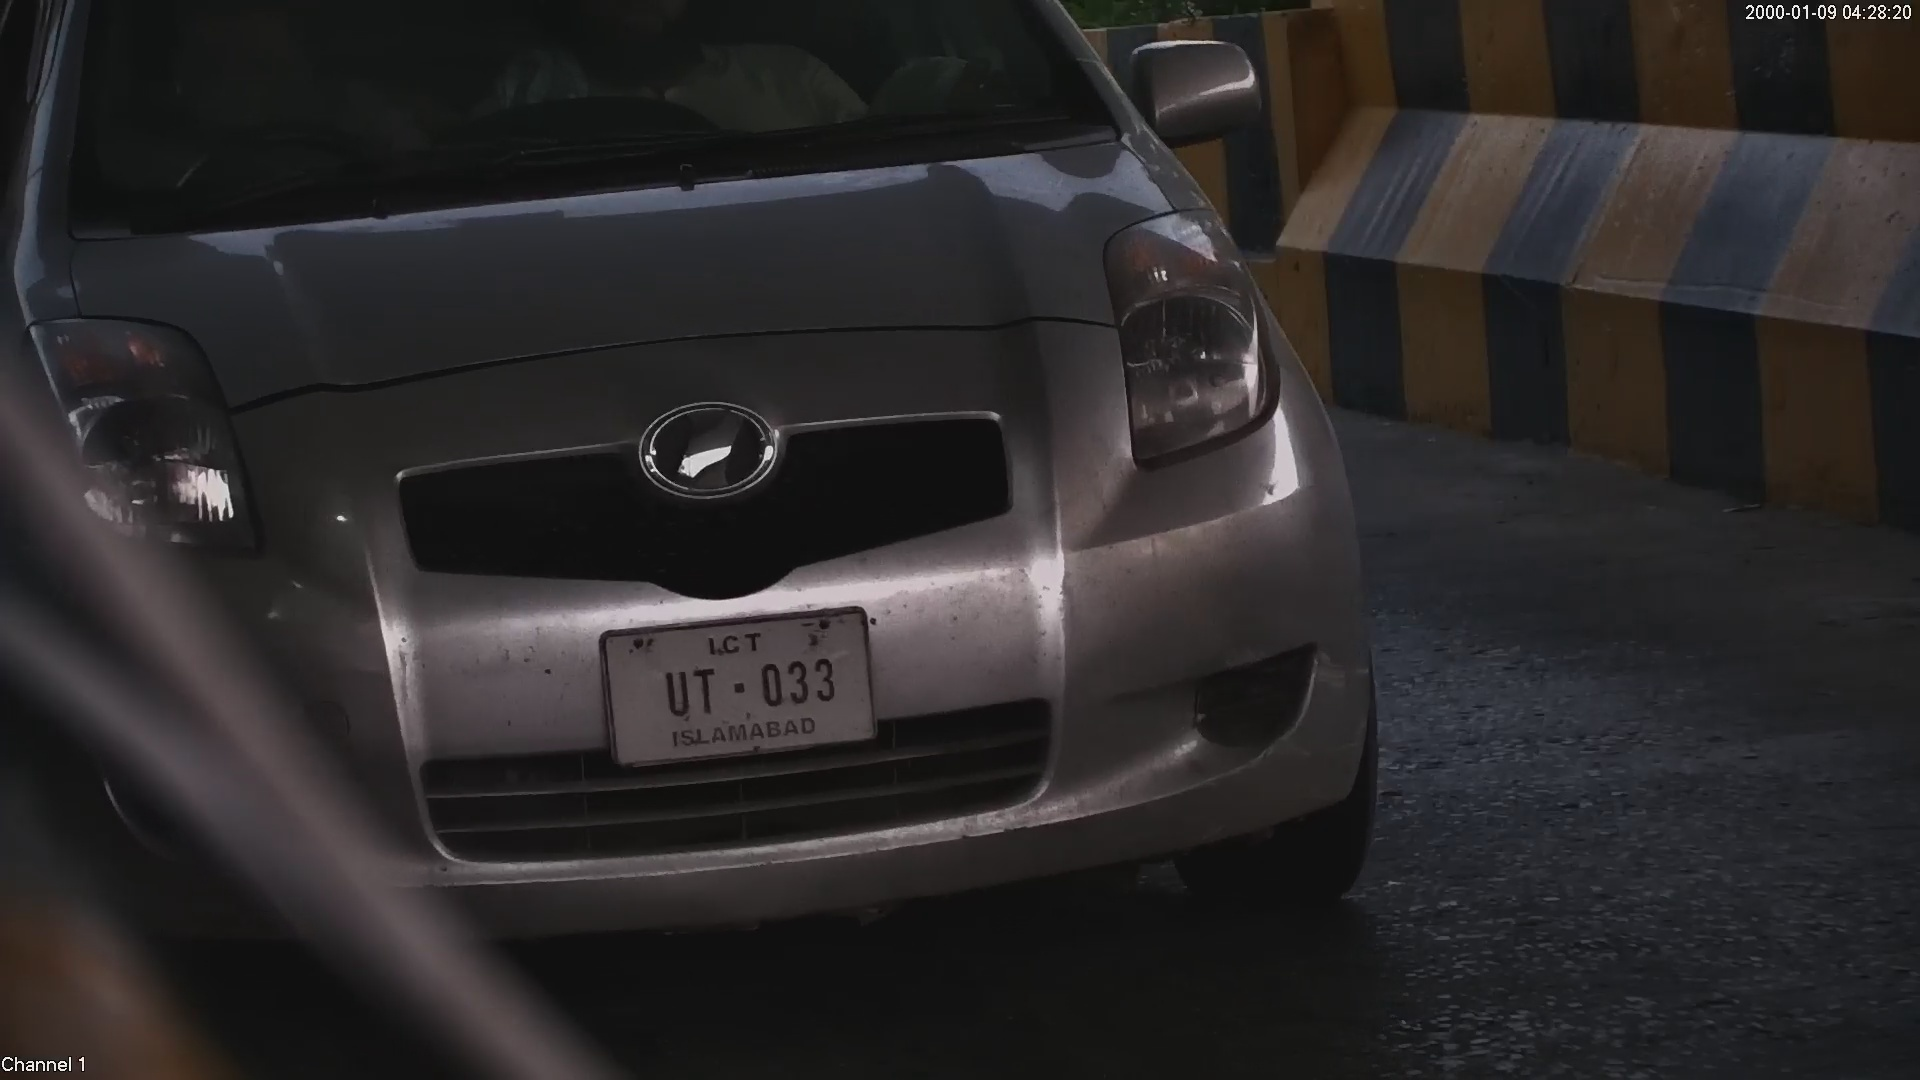Number_Plate: (587, 599, 902, 781)
Undefined: (1108, 218, 1276, 462), (30, 336, 228, 536), (630, 399, 778, 496)
